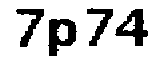4: (114, 6, 150, 49)
7: (14, 5, 44, 50), (85, 5, 115, 49)
p: (46, 13, 79, 60)
